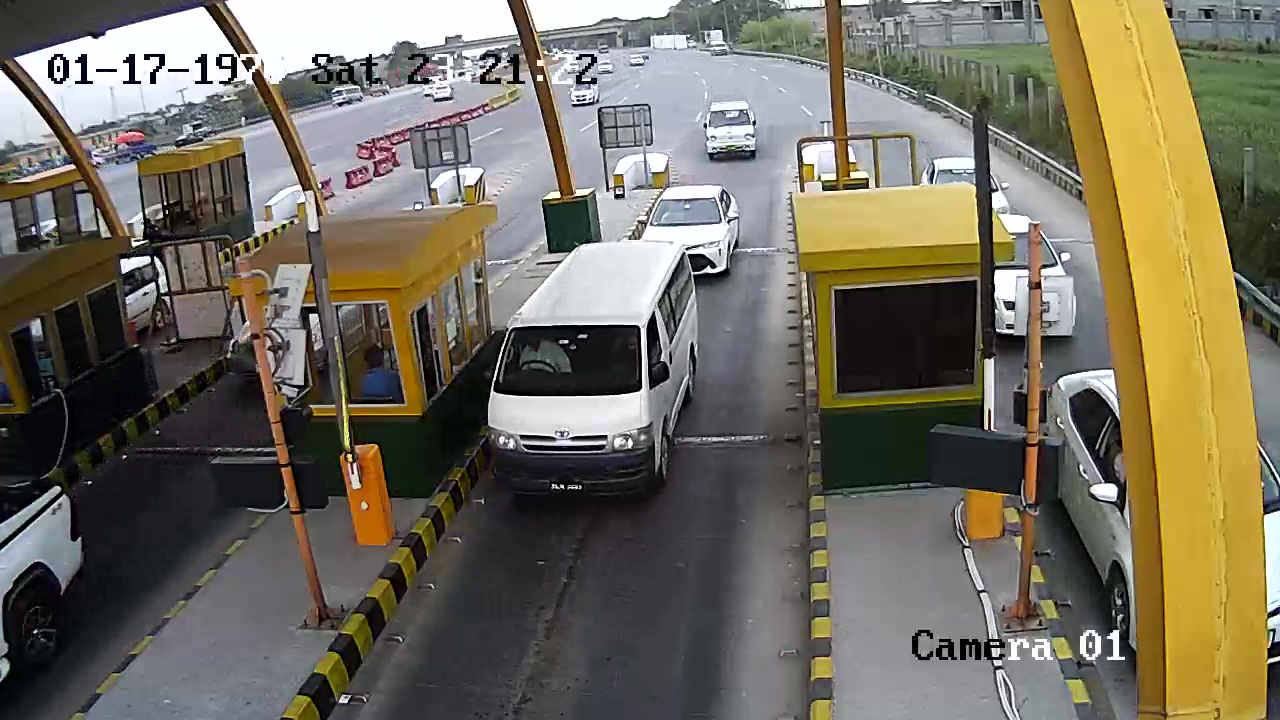F2: (487, 237, 706, 514)
